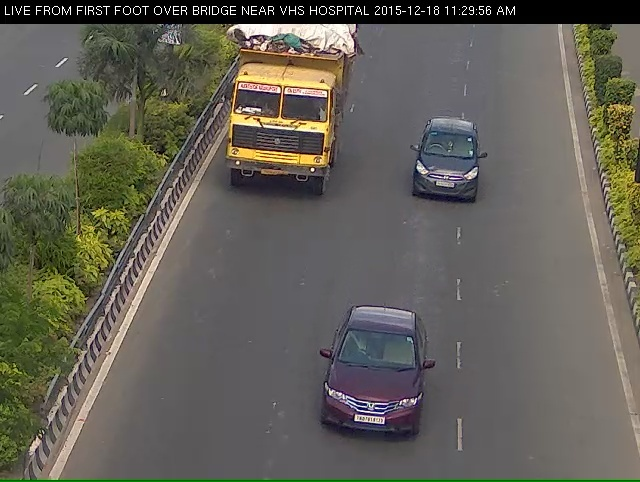Bus: (209, 20, 349, 214)
Car: (312, 323, 430, 463), (404, 130, 483, 220)
